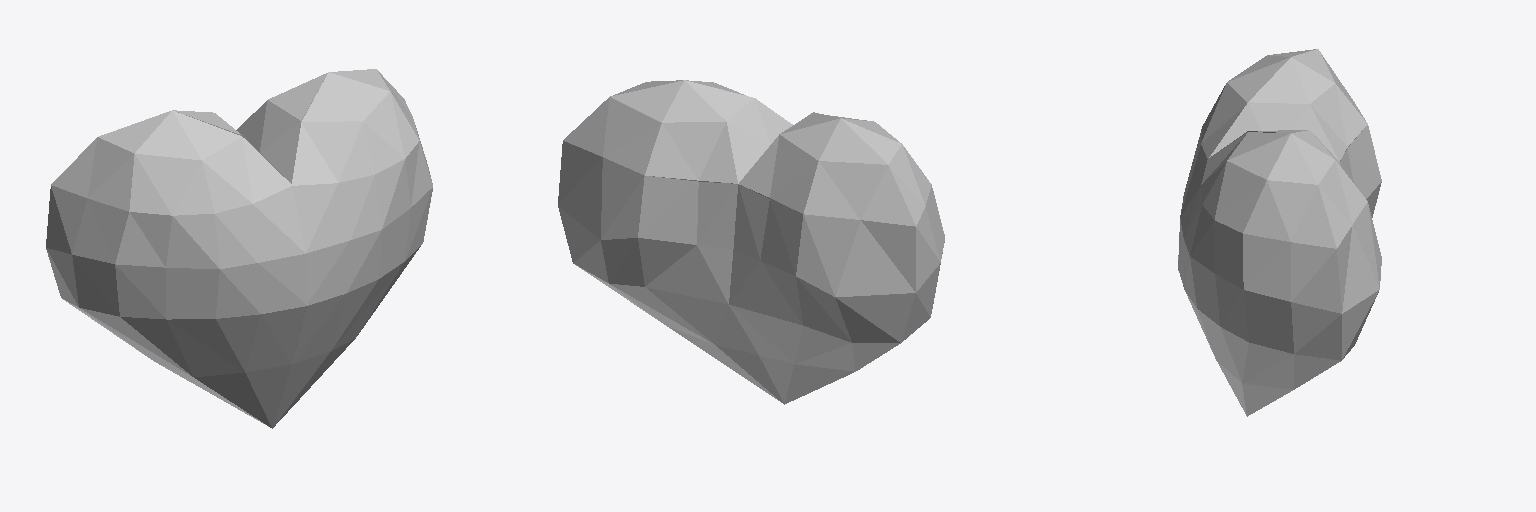
File: heart.obj
3 renders of one model, left to right at view 1: azimuth 30°, elevation 25°; view 2: azimuth 150°, elevation 25°; view 3: azimuth 270°, elevation 25°, orthographic.
Parts seen in each view (by area): view 1: Heart.2; view 2: Heart.2; view 3: Heart.2.
Part boxes in pixels (x1,y1,x2,y2): Heart.2: (46, 69, 432, 428); Heart.2: (558, 80, 944, 404); Heart.2: (1178, 49, 1381, 416).
Bounding box in the file's own units: 181 × 155 × 89.24.